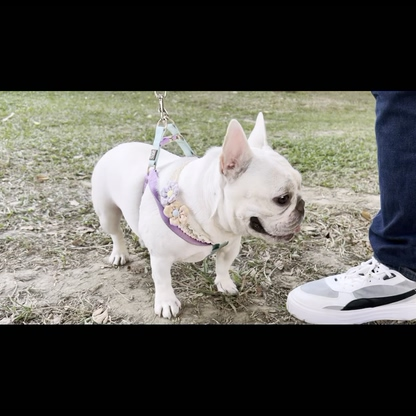bulldog: (89, 110, 309, 321)
